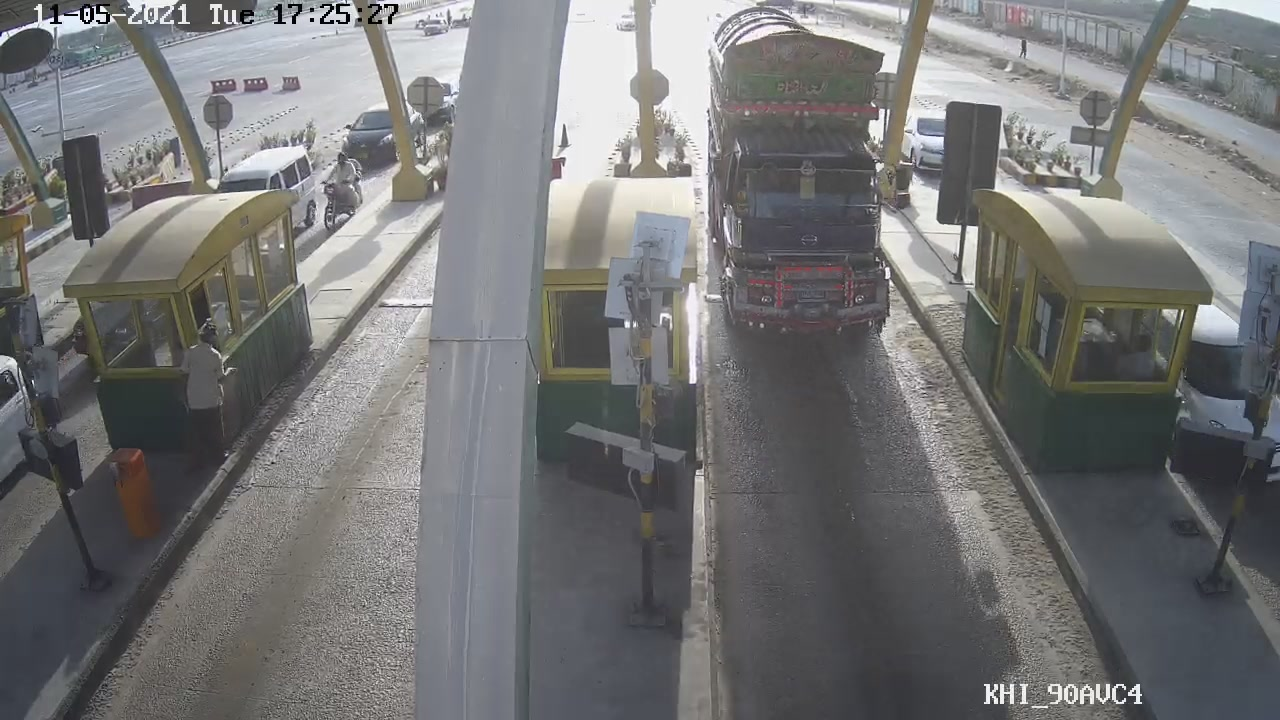F5: (700, 6, 904, 349)
